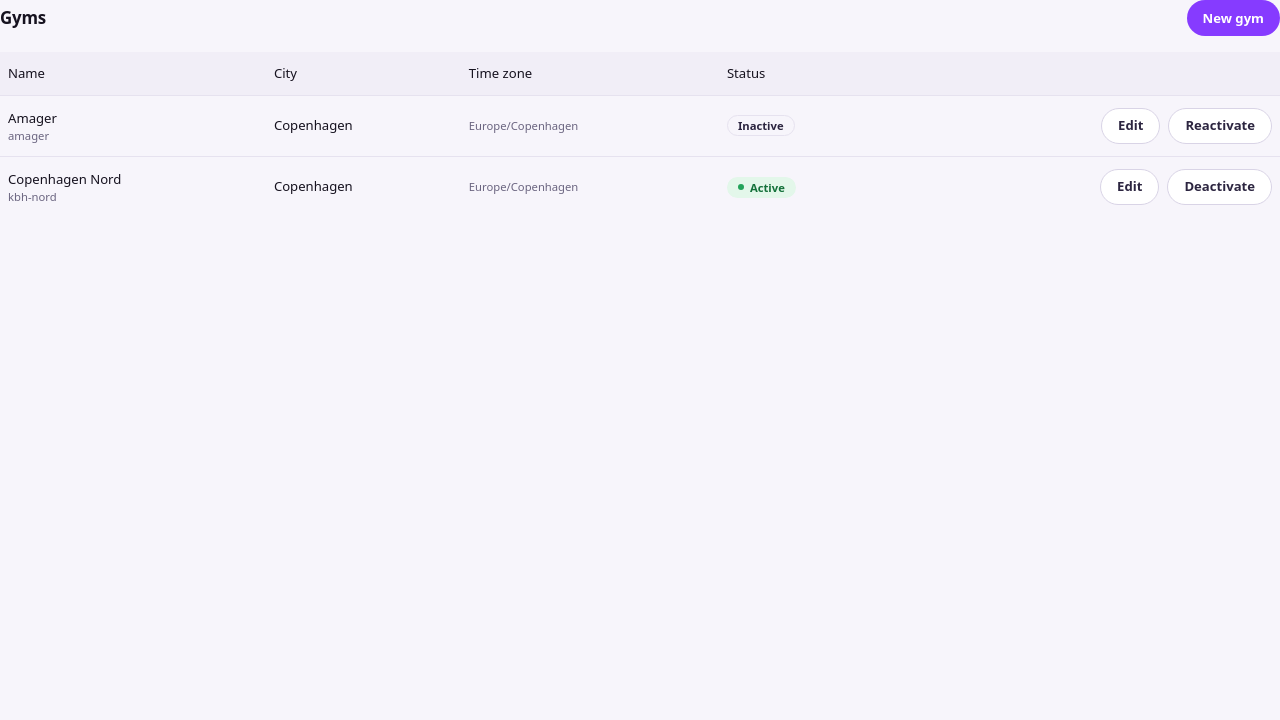
Test: GymsPanel › opens the edit dialog on the gym that was clicked
The width and height of the screenshot is (1280, 720).
Click the button "Edit" in the row of "Copenhagen Nord": (1130, 187) left=1100, top=169, right=1159, bottom=205
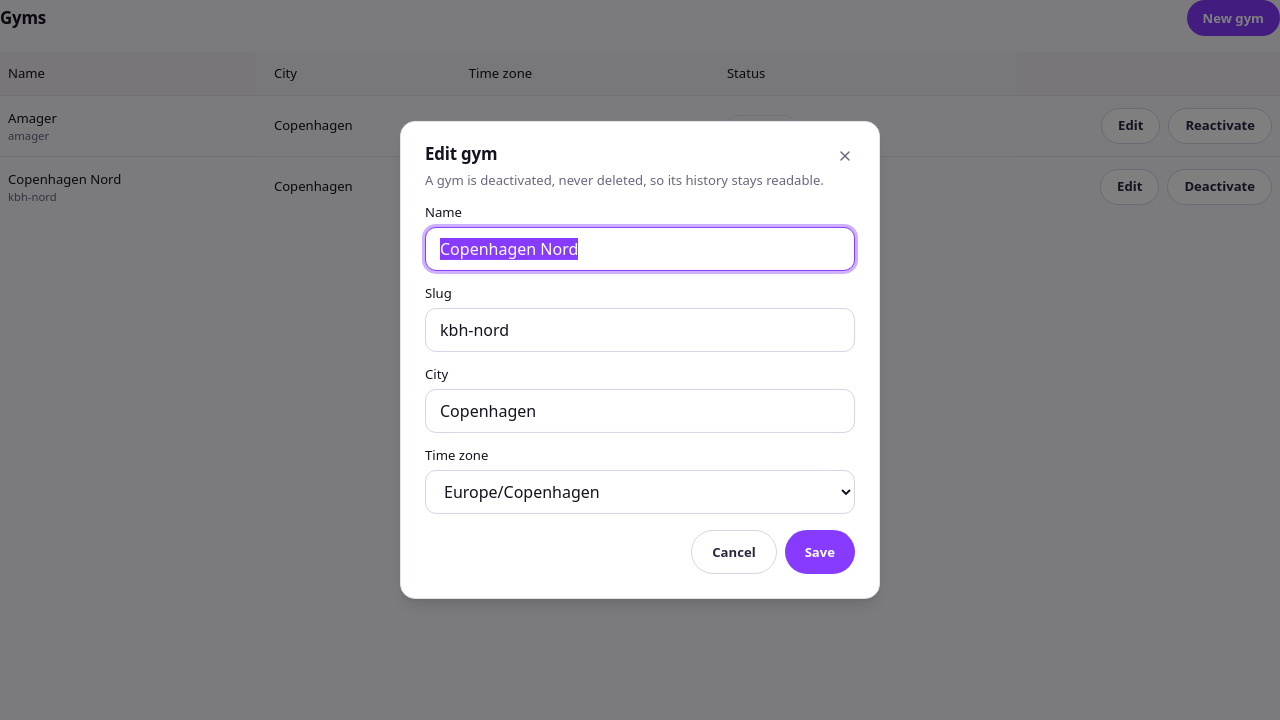
Result: the field labelled "Name" holds "Copenhagen Nord" at left=425, top=227, right=855, bottom=271
Result: the field labelled "City" holds "Copenhagen" at left=425, top=389, right=855, bottom=433
